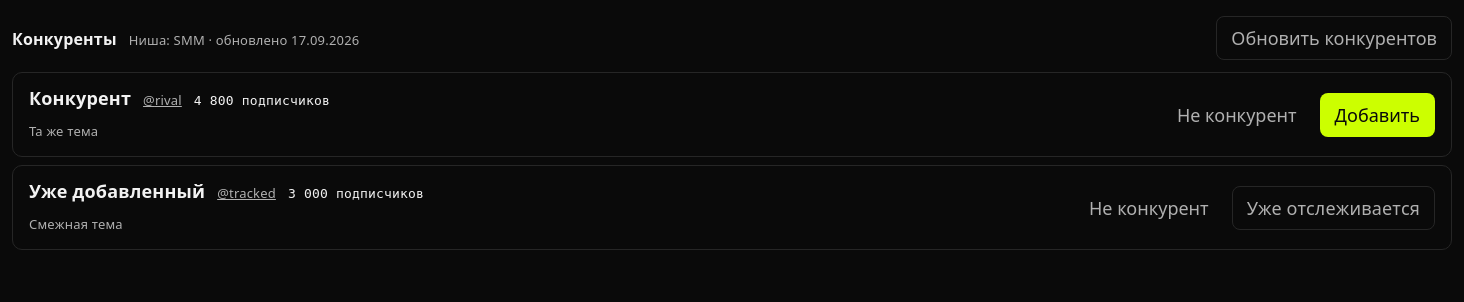
Test: CompetitorsSection › «Не конкурент» › keeps the channel and explains when hiding fails
The width and height of the screenshot is (1464, 302).
Click the button "Не конкурент" in the row of "rival" at (1237, 115), box [1162, 93, 1312, 137]
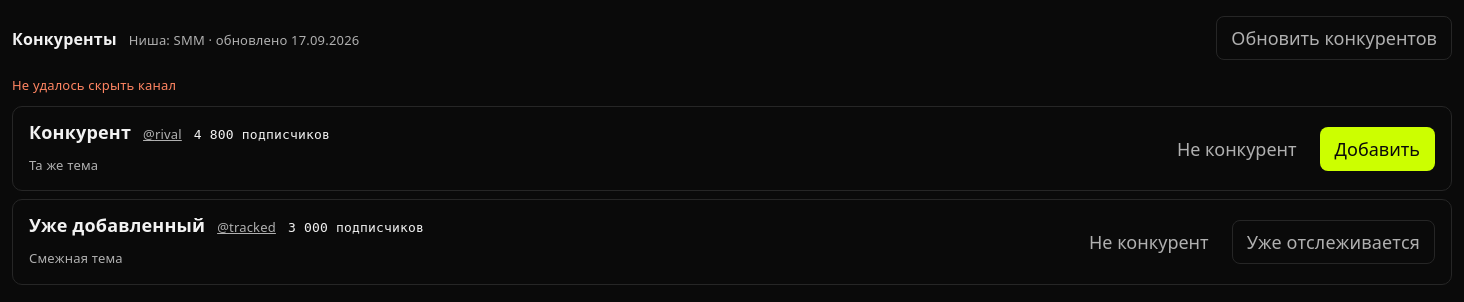
Expected: the text "Конкурент" is shown, [29, 119, 131, 145]
Result: the message reads "Не удалось скрыть канал" at [12, 76, 176, 94]
